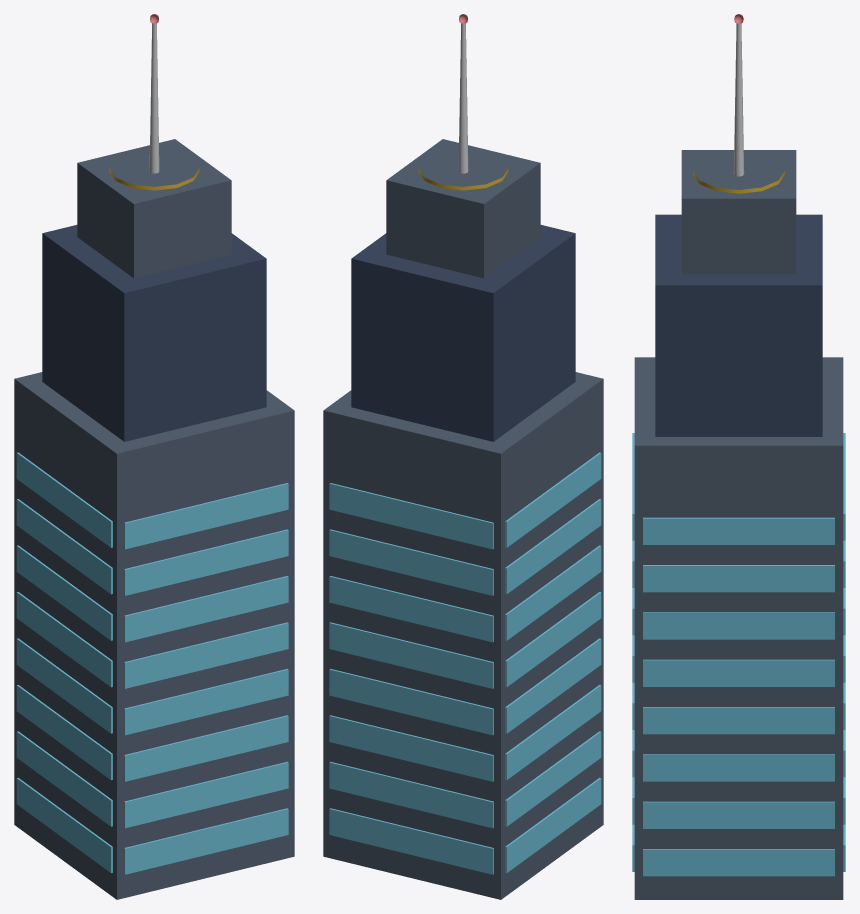
File: skyscraper.glb
The picture shows the model from 3 angles, left to right: view 1: azimuth 30°, elevation 25°; view 2: azimuth 150°, elevation 25°; view 3: azimuth 270°, elevation 25°; orthographic projection.
Visible parts, largest first — view 1: Root; view 2: Root; view 3: Root.
Part boxes in pixels (left/top/right/bottom): Root: left=14, top=14, right=294, bottom=899; Root: left=323, top=14, right=603, bottom=899; Root: left=632, top=14, right=845, bottom=899.
Bounding box in the file's own units: 10.2 × 44.45 × 10.2.
